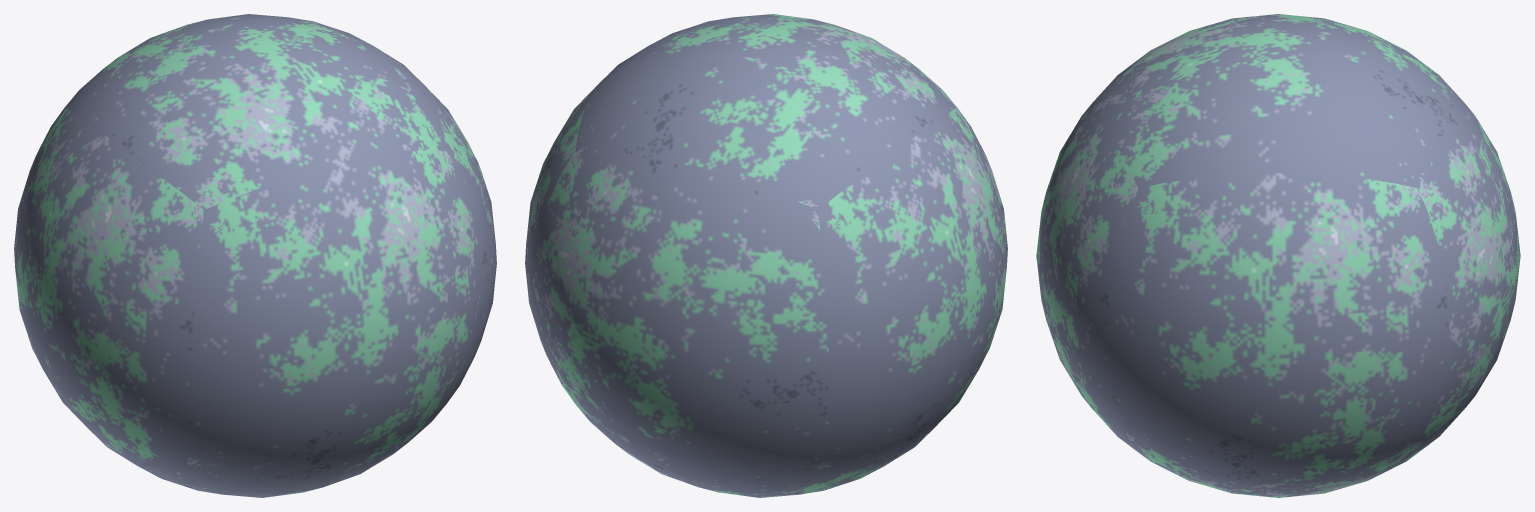
The model's file is SM_Planet_03.fbx.
3 renders of one model, left to right at view 1: azimuth 30°, elevation 25°; view 2: azimuth 150°, elevation 25°; view 3: azimuth 270°, elevation 25°, orthographic.
Parts seen in each view (by area): view 1: SM_Planet_03; view 2: SM_Planet_03; view 3: SM_Planet_03.
Boxes of the visible parts, <box> form: SM_Planet_03: <box>14,14,496,497</box>; SM_Planet_03: <box>525,14,1007,497</box>; SM_Planet_03: <box>1036,14,1520,497</box>.
Bounding box in the file's own units: 171 × 171 × 171.
